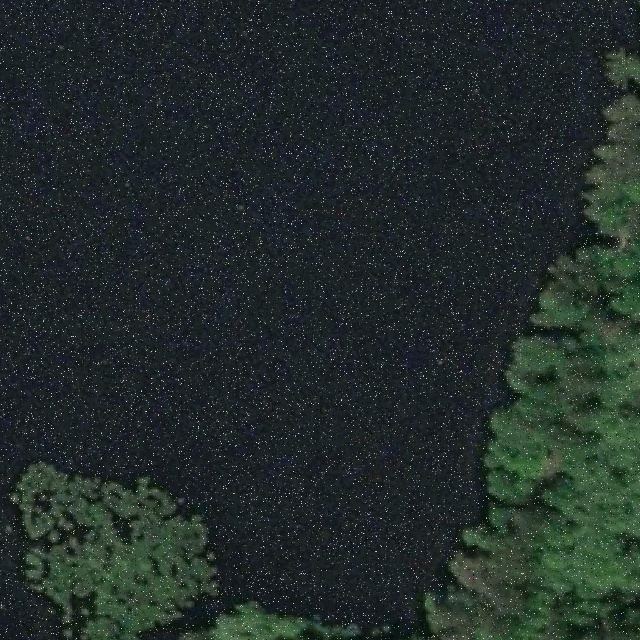vegetation: (422, 46, 640, 640)
